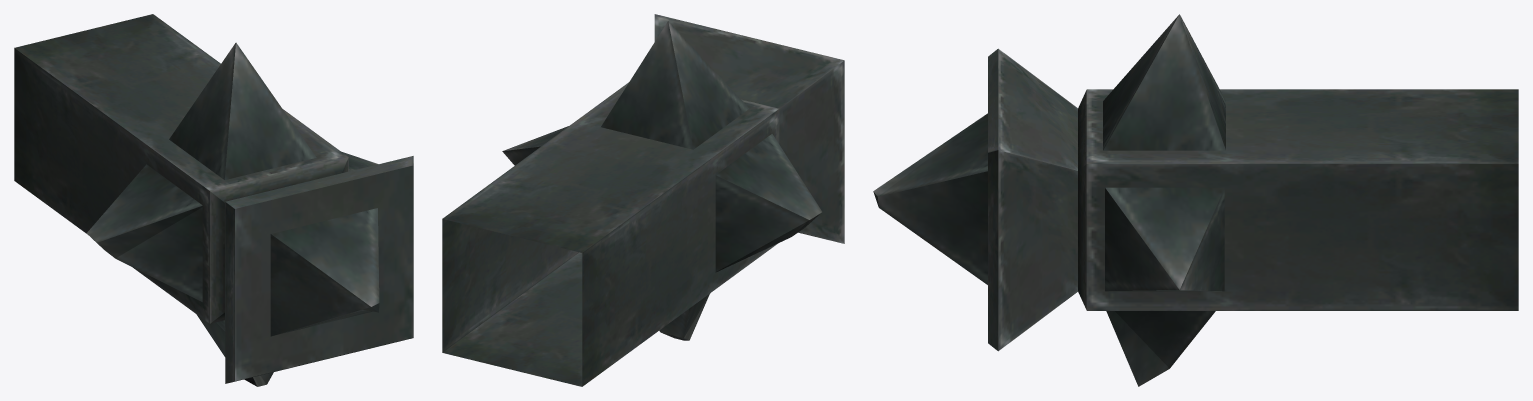
Rendered from juqing_fuben_252_langan_01d.obj.
3 renders of one model, left to right at view 1: azimuth 30°, elevation 25°; view 2: azimuth 150°, elevation 25°; view 3: azimuth 270°, elevation 25°, orthographic. The views are drawn at different scales.
Visible parts, largest first — view 1: juqing_fuben_252_langan_01b; view 2: juqing_fuben_252_langan_01b; view 3: juqing_fuben_252_langan_01b.
Part boxes in pixels (x1,y1,x2,y2): juqing_fuben_252_langan_01b: (14,14,413,386); juqing_fuben_252_langan_01b: (442,14,844,386); juqing_fuben_252_langan_01b: (873,14,1518,386).
Size of the model in its own units: 40.93 by 41.77 by 66.71.
Materials: 1 (1 with a texture image).
